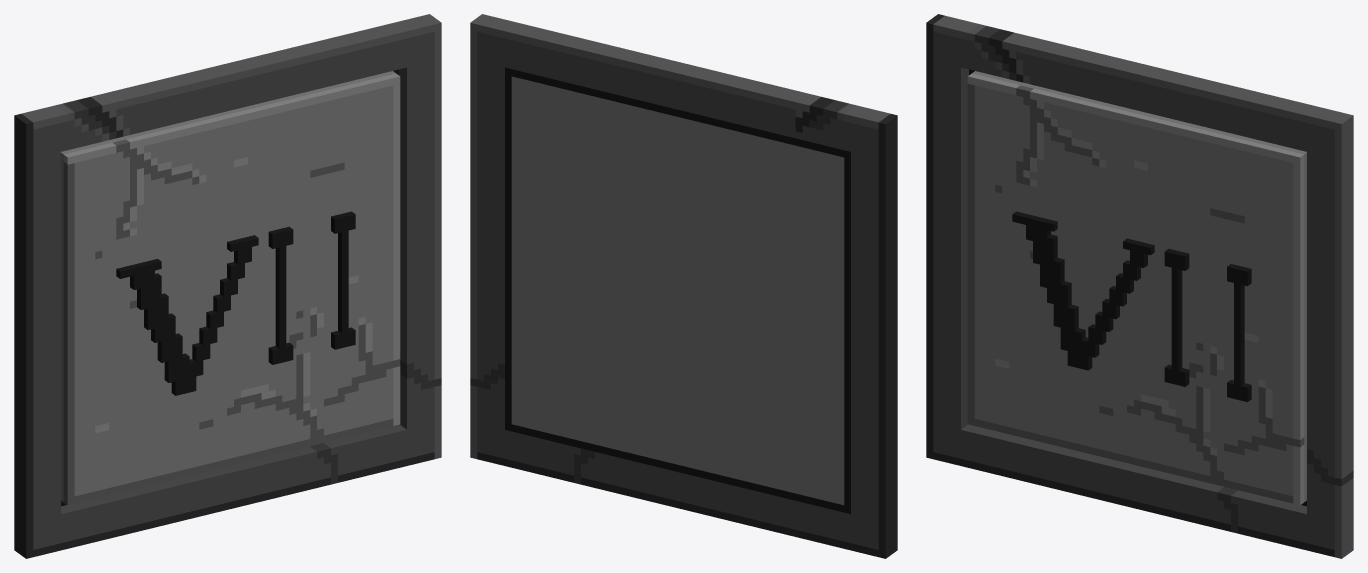
File: balpan_8.obj
The picture shows the model from 3 angles, left to right: view 1: azimuth 30°, elevation 25°; view 2: azimuth 150°, elevation 25°; view 3: azimuth 330°, elevation 25°; orthographic projection.
Parts seen in each view (by area): view 1: balpan_8; view 2: balpan_8; view 3: balpan_8.
Boxes of the visible parts, <box> form: balpan_8: <box>14,14,441,558</box>; balpan_8: <box>470,14,897,558</box>; balpan_8: <box>926,14,1353,558</box>.
Size of the model in its own units: 60 by 60 by 4.
1 material, 1 textured.
